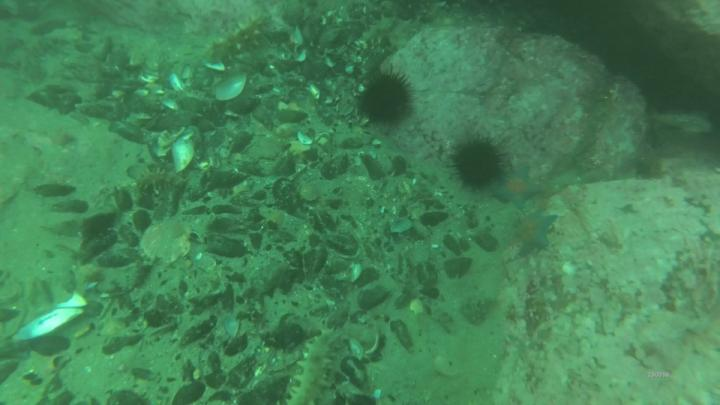echinus: (362, 76, 412, 125), (455, 143, 502, 187)
holothurian: (288, 331, 343, 405)
scallop: (138, 217, 190, 263)
starfish: (514, 208, 557, 252), (496, 163, 536, 207)
